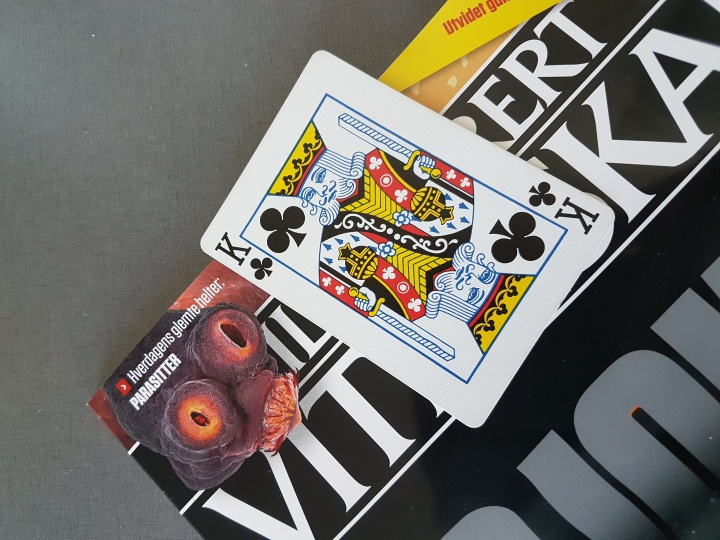king: (192, 31, 620, 431)
